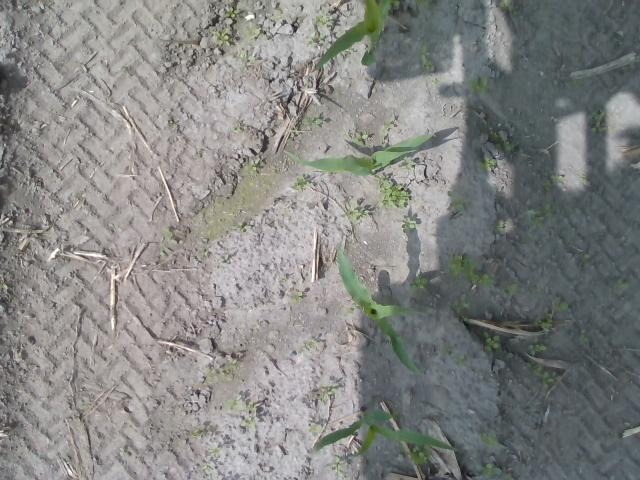Maize: (334, 238, 426, 377), (306, 403, 459, 464), (284, 132, 432, 176), (311, 0, 390, 74)
Weeds: (447, 252, 497, 288), (374, 176, 410, 208), (538, 295, 570, 329), (530, 362, 560, 385), (160, 228, 178, 258), (544, 172, 570, 192), (532, 206, 556, 227), (449, 295, 471, 315), (468, 76, 492, 94), (225, 398, 255, 412), (590, 110, 607, 134), (526, 336, 547, 355), (447, 190, 465, 210), (480, 431, 498, 450), (244, 158, 262, 176), (409, 446, 427, 464), (419, 46, 432, 70), (484, 334, 501, 352), (318, 384, 336, 401), (411, 274, 430, 289), (216, 31, 232, 48), (351, 206, 368, 222), (308, 32, 327, 46), (294, 176, 313, 190), (401, 218, 420, 231), (237, 49, 257, 61), (316, 13, 336, 25), (300, 116, 324, 126), (225, 6, 241, 20), (480, 159, 497, 171), (507, 283, 521, 297), (245, 416, 258, 430), (482, 463, 493, 479), (332, 458, 342, 474), (502, 142, 514, 155), (354, 133, 368, 144), (414, 0, 430, 9), (208, 447, 222, 457), (381, 121, 394, 131), (580, 254, 590, 266), (616, 277, 626, 289), (404, 158, 414, 170), (290, 292, 302, 302), (454, 355, 464, 366), (578, 334, 588, 344), (228, 358, 236, 370)
